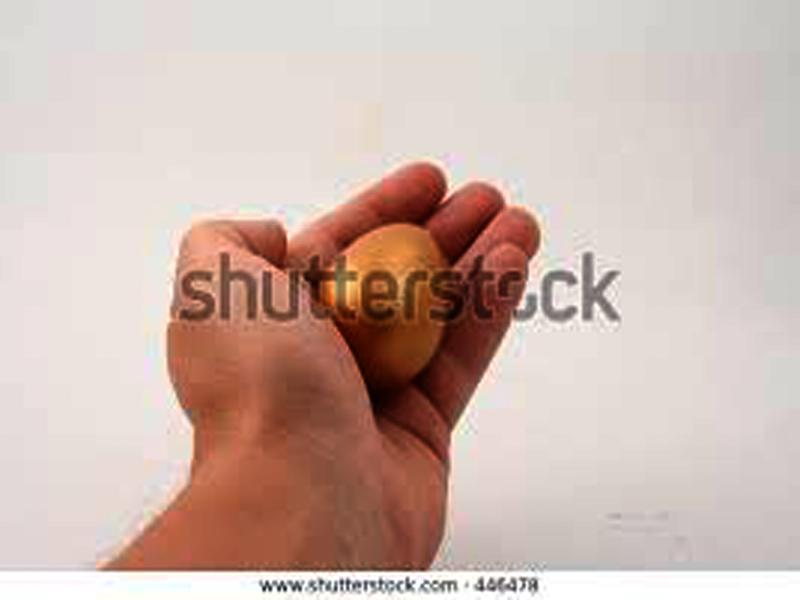Eggs: (322, 223, 448, 386)
